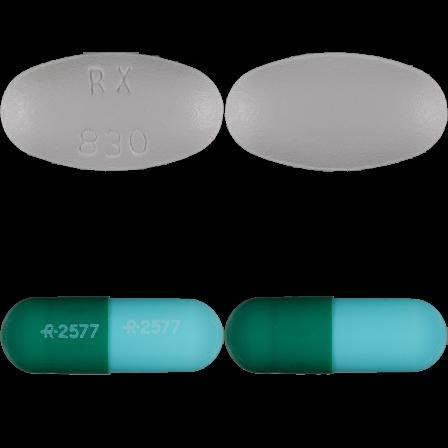68258-6044: (0, 0, 224, 224)
